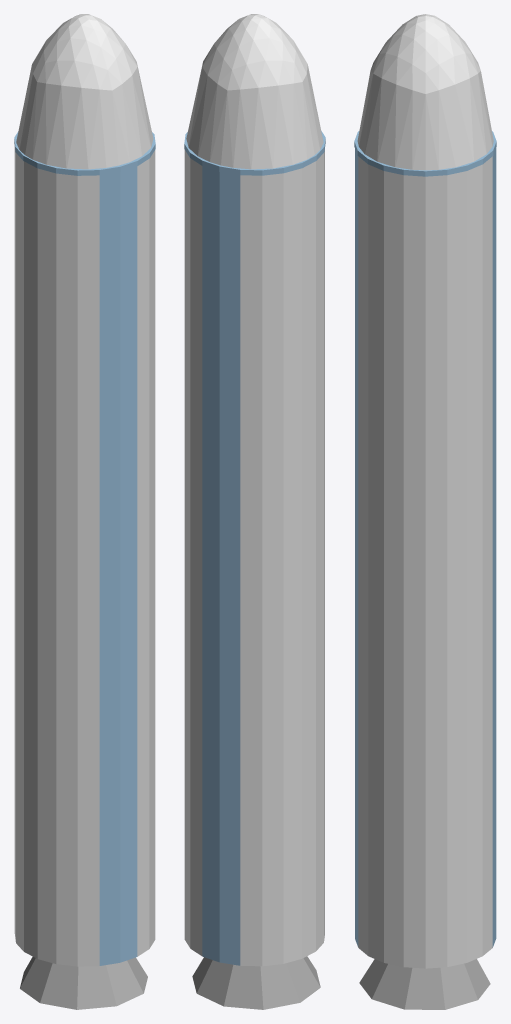
Rendered from roket2_2.fbx.
The picture shows the model from 3 angles, left to right: view 1: azimuth 30°, elevation 25°; view 2: azimuth 150°, elevation 25°; view 3: azimuth 270°, elevation 25°; orthographic projection.
Parts seen in each view (by area): view 1: Cylinder_4; view 2: Cylinder_4; view 3: Cylinder_4.
Part boxes in pixels (x1,y1,x2,y2): Cylinder_4: (14, 14, 155, 1009); Cylinder_4: (184, 14, 325, 1009); Cylinder_4: (354, 14, 496, 1009).
Size of the model in its own units: 226 by 1693 by 226.
